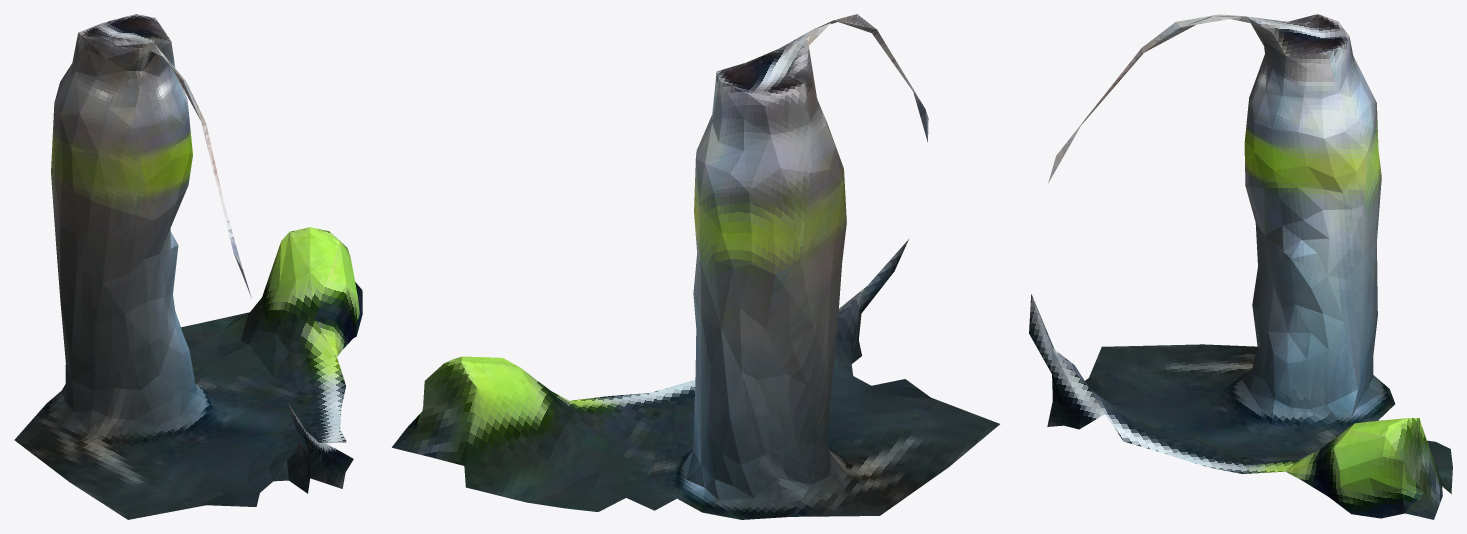
Rendered from 1024-oxygen.glb.
3 renders of one model, left to right at view 1: azimuth 30°, elevation 25°; view 2: azimuth 150°, elevation 25°; view 3: azimuth 270°, elevation 25°, orthographic. The views are drawn at different scales.
Visible parts, largest first — view 1: Mesh_0; view 2: Mesh_0; view 3: Mesh_0.
Part boxes in pixels (x1,y1,x2,y2): Mesh_0: [14, 14, 362, 519]; Mesh_0: [392, 14, 999, 519]; Mesh_0: [1029, 14, 1452, 519].
Size of the model in its own units: 0.1916 by 0.1833 by 0.1853.
1 material, 1 textured.
